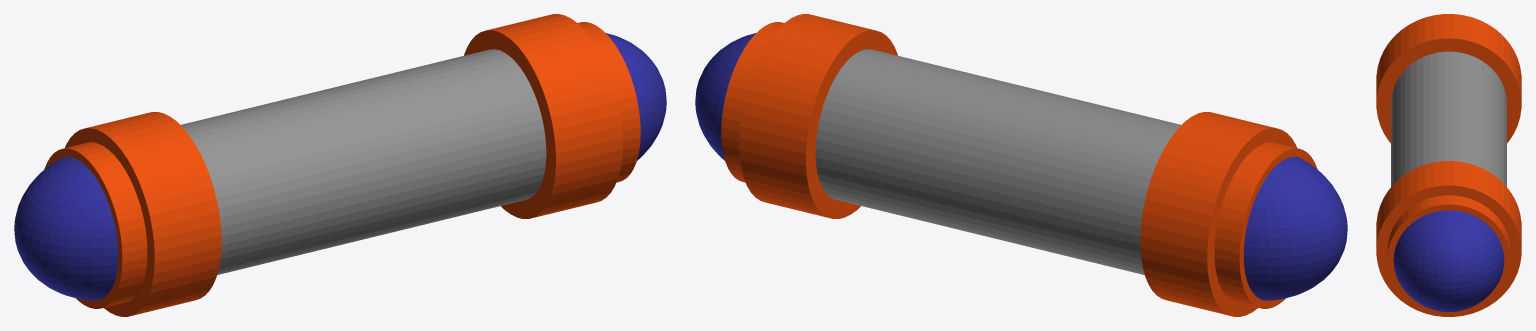
The model's file is Vaus.obj.
3 views of the same model, side by side, from view 1: azimuth 30°, elevation 25°; view 2: azimuth 150°, elevation 25°; view 3: azimuth 270°, elevation 25° (orthographic). The views are drawn at different scales.
Parts seen in each view (by area): view 1: cylinder, sphere; view 2: cylinder, sphere; view 3: cylinder, sphere.
Boxes of the visible parts, x1=… form: cylinder: x1=44, y1=14, x2=640, y2=316; sphere: x1=14, y1=33, x2=666, y2=300; cylinder: x1=721, y1=14, x2=1317, y2=316; sphere: x1=695, y1=33, x2=1347, y2=300; cylinder: x1=1376, y1=14, x2=1521, y2=316; sphere: x1=1393, y1=210, x2=1504, y2=311.
Size of the model in its own units: 2.38 by 0.625 by 0.625.
Materials: 3 (3 with a texture image).
